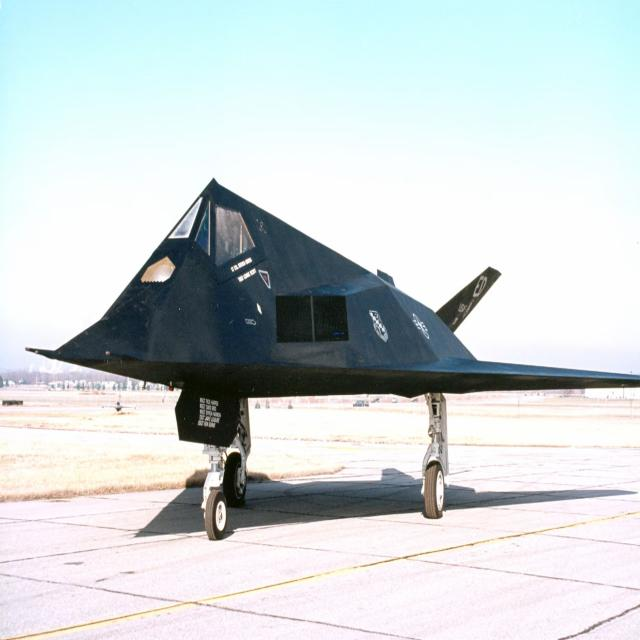F117: (17, 157, 640, 600)
